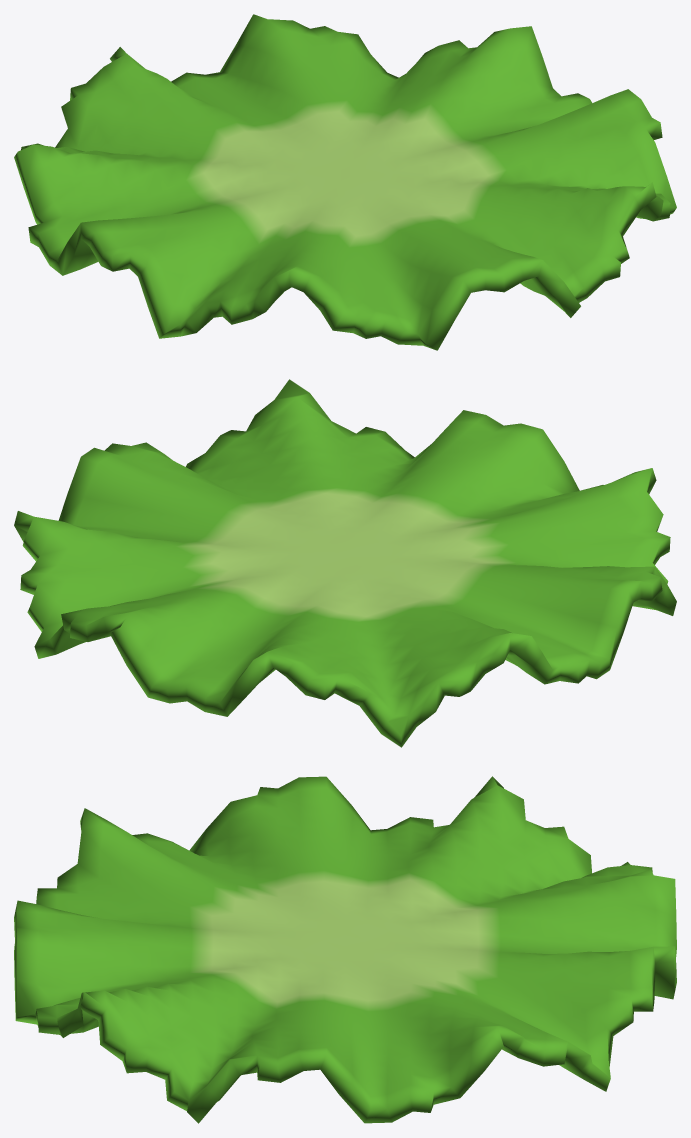
File: lettuce.glb
The picture shows the model from 3 angles, top to bottom: view 1: azimuth 30°, elevation 25°; view 2: azimuth 150°, elevation 25°; view 3: azimuth 270°, elevation 25°; orthographic projection. The views are drawn at different scales.
Visible parts, largest first — view 1: lettuce; view 2: lettuce; view 3: lettuce.
Boxes of the visible parts, box(x1,y1,x2,y2) form: lettuce: box(14, 14, 676, 350); lettuce: box(14, 379, 676, 747); lettuce: box(14, 776, 676, 1123).
Bounding box in the file's own units: 0.1301 × 0.0216 × 0.1302.
